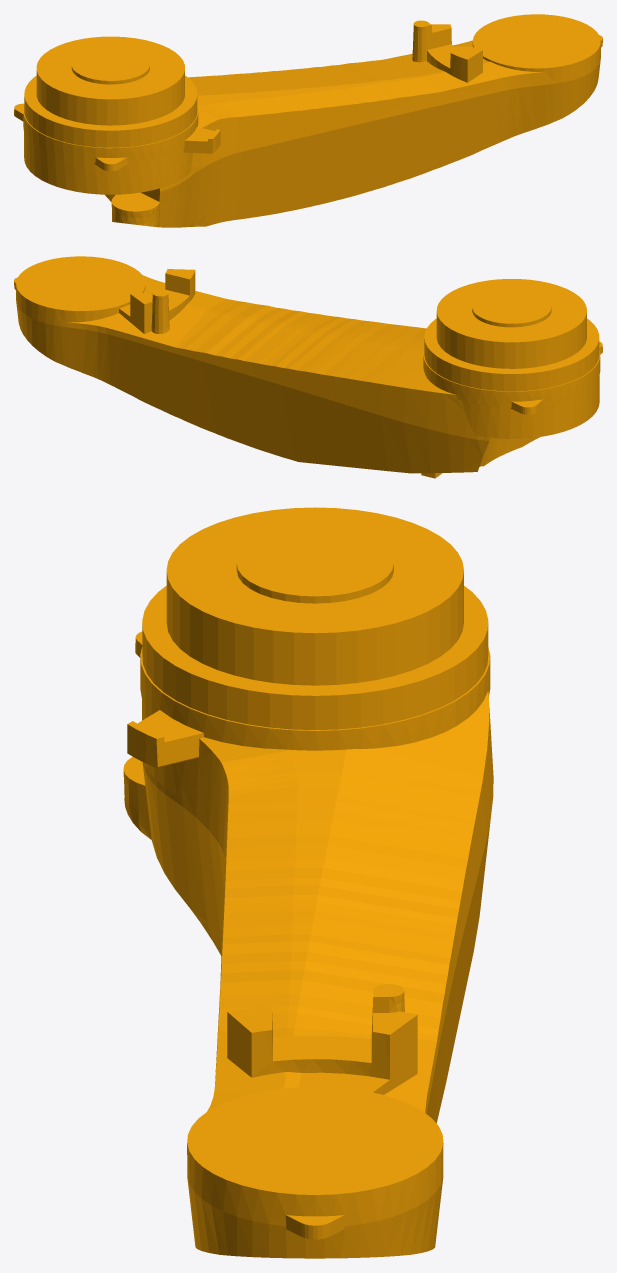
3 renders of one model, top to bottom at view 1: azimuth 30°, elevation 25°; view 2: azimuth 150°, elevation 25°; view 3: azimuth 270°, elevation 25°, orthographic. The views are drawn at different scales.
Parts seen in each view (by area): view 1: /node0/Part__Feature_002-mesh/0; view 2: /node0/Part__Feature_002-mesh/0; view 3: /node0/Part__Feature_002-mesh/0.
Boxes of the visible parts, bbox=[...] form: /node0/Part__Feature_002-mesh/0: bbox=[14, 14, 602, 227]; /node0/Part__Feature_002-mesh/0: bbox=[14, 256, 602, 478]; /node0/Part__Feature_002-mesh/0: bbox=[123, 507, 493, 1258].
Size of the model in its own units: 1.66 by 0.492 by 0.4702.
